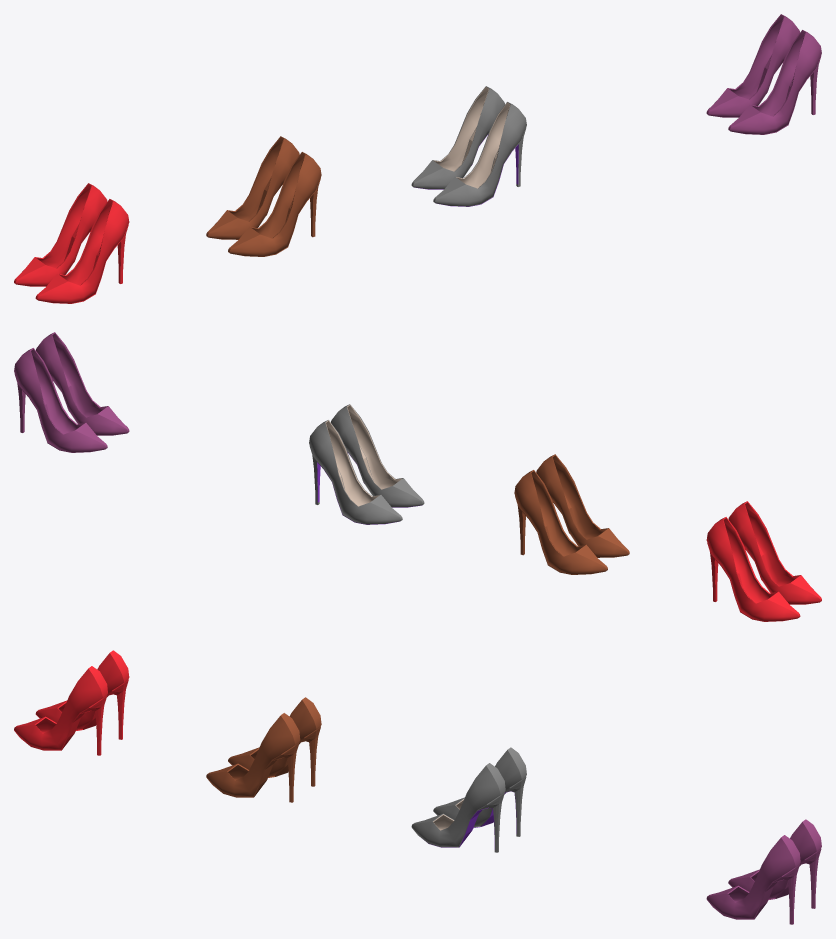
The model's file is heels.gltf.
3 renders of one model, top to bottom at view 1: azimuth 30°, elevation 25°; view 2: azimuth 150°, elevation 25°; view 3: azimuth 330°, elevation 25°, orthographic.
Visible parts, largest first — view 1: Shoe_Part_13.003, Shoe_Part_13, Shoe_Part_13.002, Shoe_Part_13.001; view 2: Shoe_Part_13.003, Shoe_Part_13, Shoe_Part_13.002, Shoe_Part_13.001; view 3: Shoe_Part_13.003, Shoe_Part_13.001, Shoe_Part_13, Shoe_Part_13.002.
Boxes of the visible parts, x1=… form: Shoe_Part_13.003: x1=14, y1=183, x2=129, y2=303; Shoe_Part_13: x1=411, y1=86, x2=526, y2=206; Shoe_Part_13.002: x1=206, y1=136, x2=321, y2=256; Shoe_Part_13.001: x1=706, y1=14, x2=821, y2=134; Shoe_Part_13.003: x1=706, y1=501, x2=821, y2=621; Shoe_Part_13: x1=309, y1=404, x2=424, y2=524; Shoe_Part_13.002: x1=514, y1=454, x2=629, y2=574; Shoe_Part_13.001: x1=14, y1=332, x2=129, y2=452; Shoe_Part_13.003: x1=14, y1=650, x2=129, y2=755; Shoe_Part_13.001: x1=706, y1=819, x2=821, y2=924; Shoe_Part_13: x1=411, y1=747, x2=526, y2=852; Shoe_Part_13.002: x1=206, y1=697, x2=321, y2=802.
Bounding box in the file's own units: 12.73 × 1.34 × 1.18.
